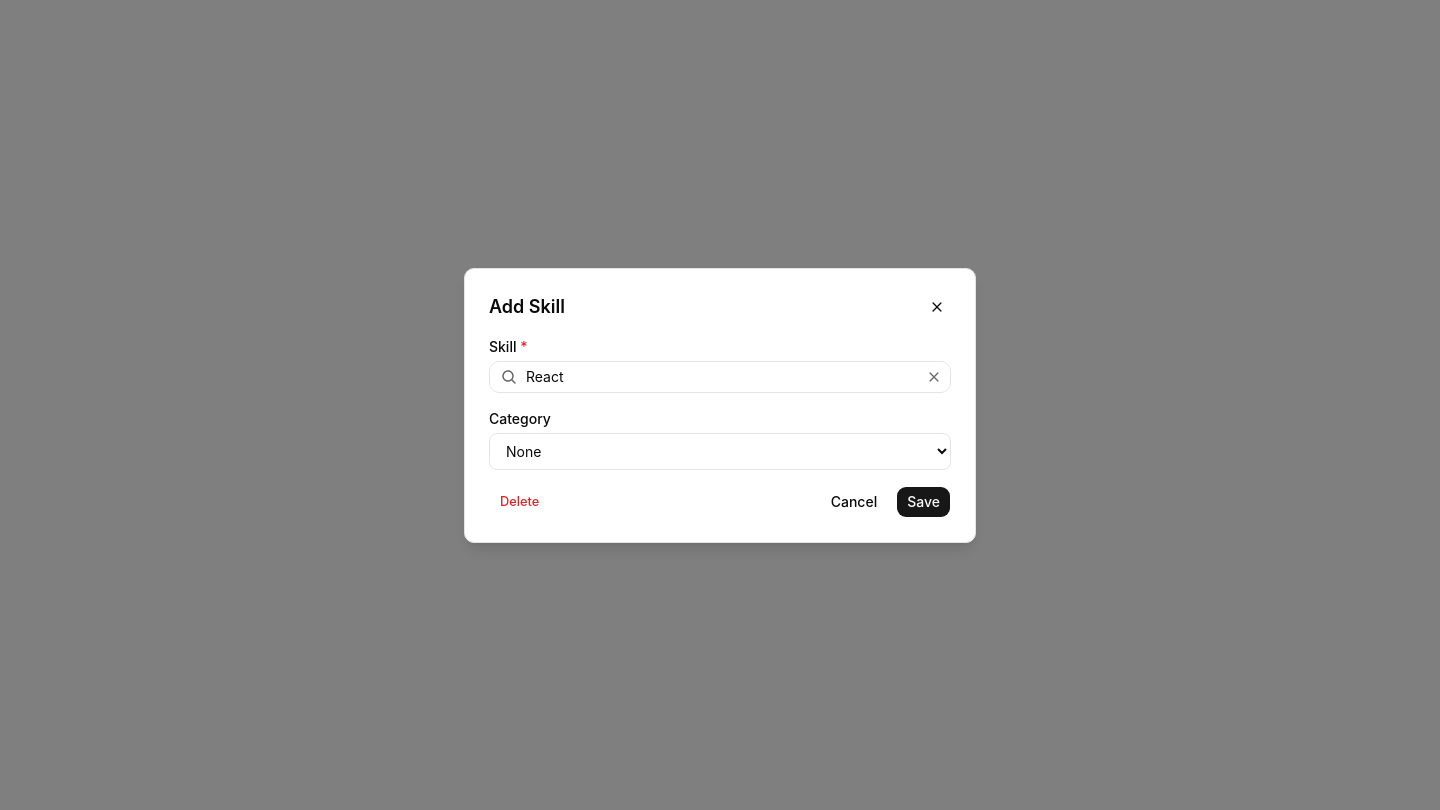
Test: SkillEditDialog › delete button › cancels delete confirmation when clicking cancel
Click the button with aria-label "delete skill" at (520, 502), box [489,488,550,516]
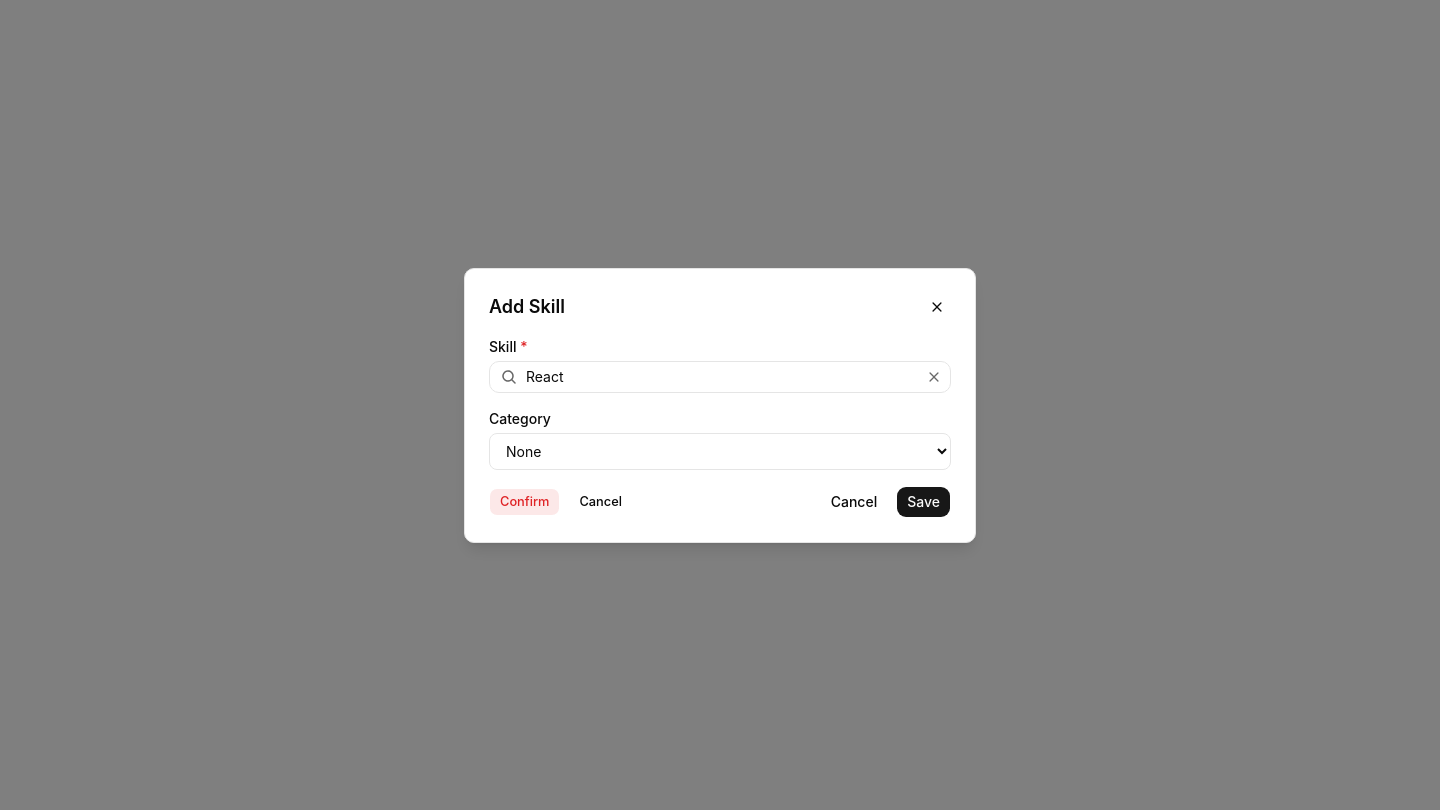
Click the button with aria-label "cancel delete" at (601, 502), box [568,488,633,516]
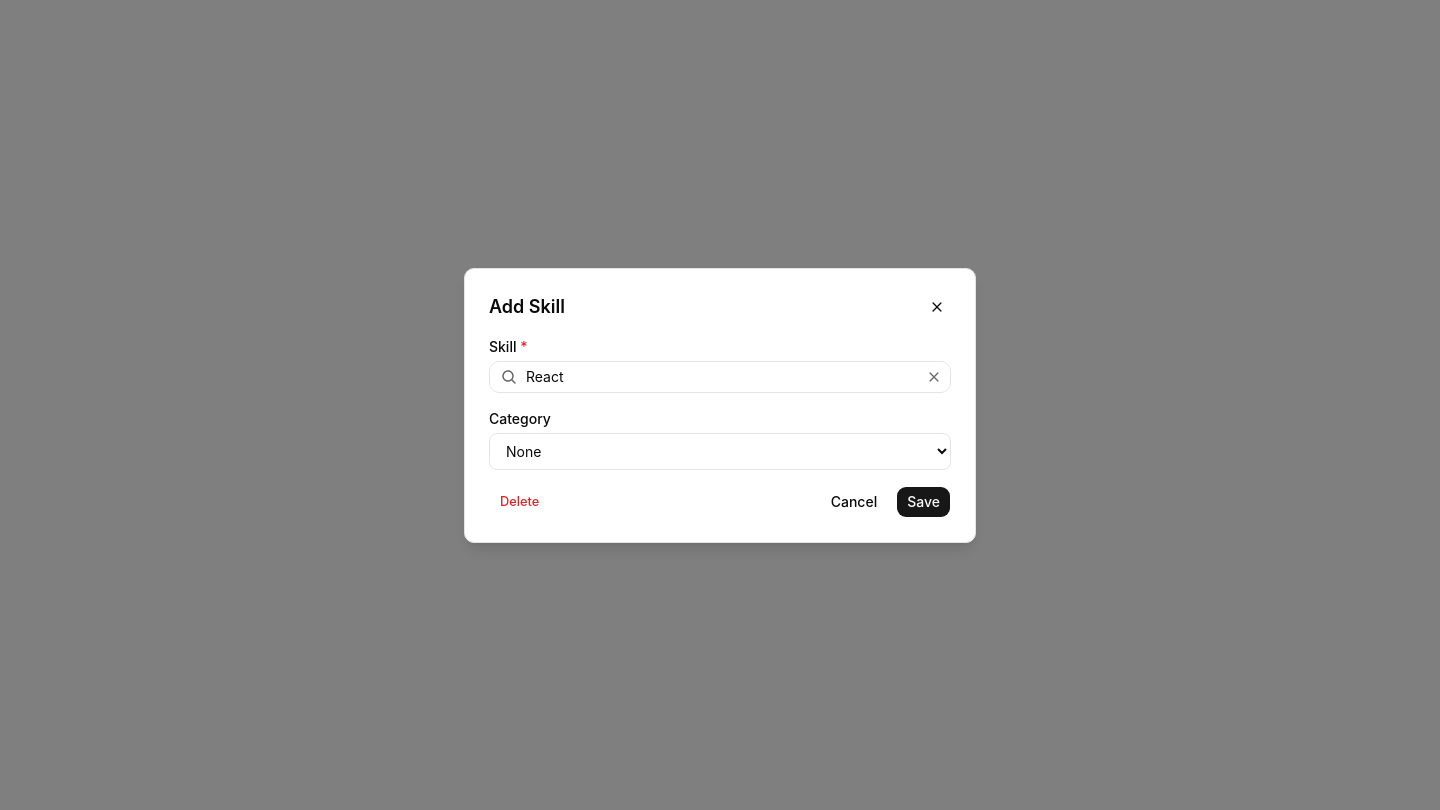
expect the button with aria-label "delete skill" is shown: met, box [489,488,550,516]
